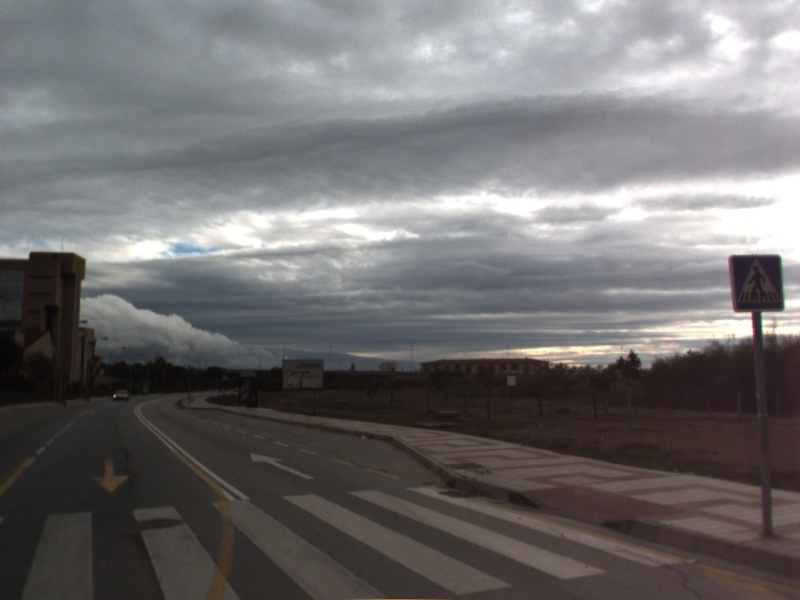STRAIGHT: (247, 450, 318, 481)
